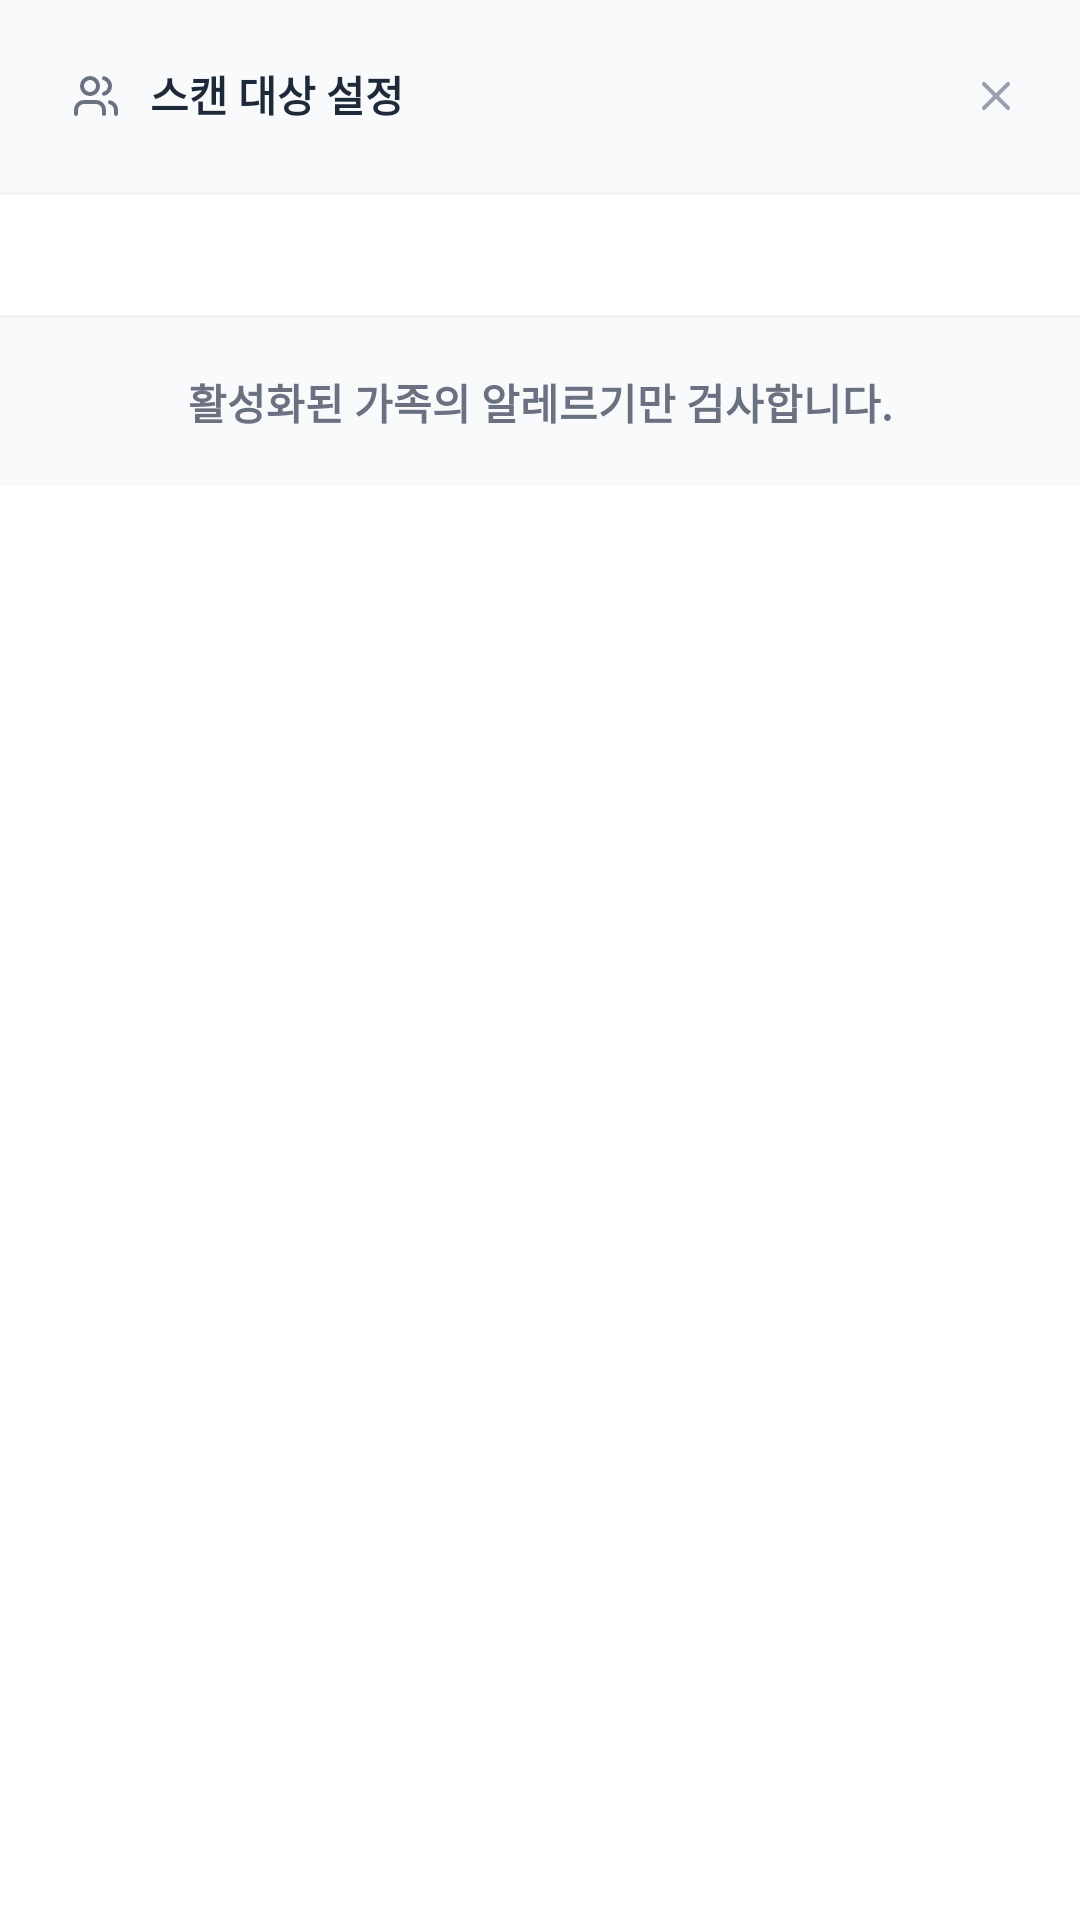

Point at icon controls on the screen. Image size 1080w x 1920h, points as [x,y].
닫기: [996,96]
